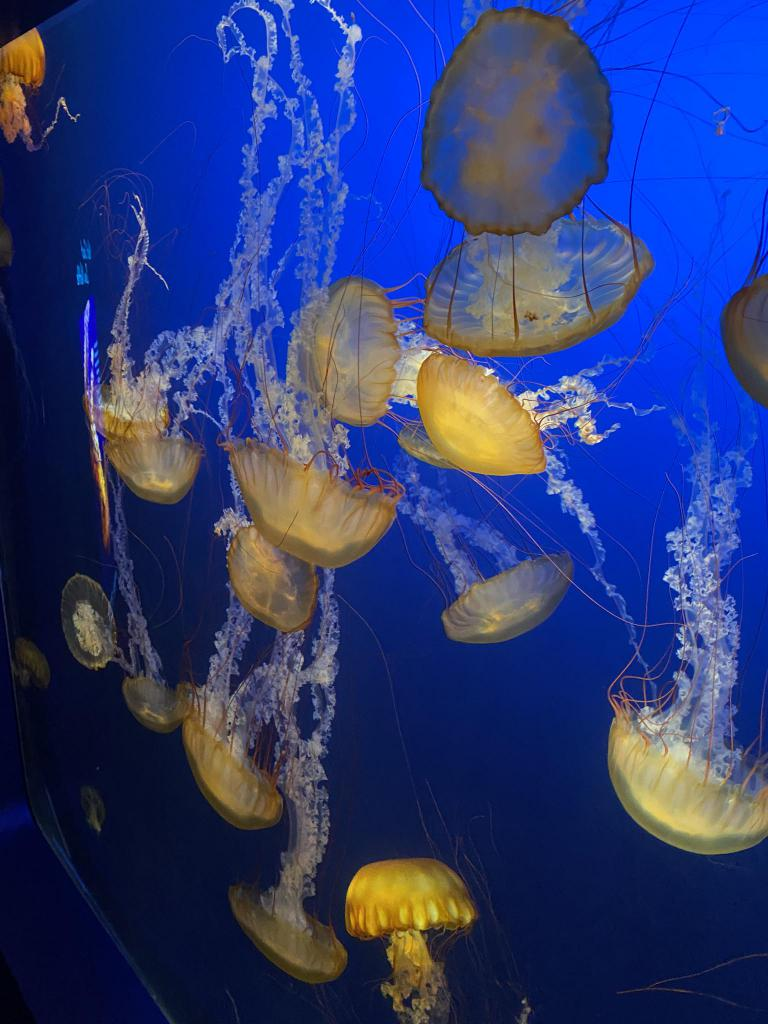jellyfish: (420, 8, 610, 236), (421, 214, 651, 356), (608, 710, 766, 856), (228, 440, 398, 570), (417, 350, 547, 478), (298, 275, 390, 427), (440, 551, 572, 653), (181, 709, 281, 831), (226, 883, 348, 983), (347, 856, 475, 940), (228, 526, 320, 636), (107, 441, 203, 509), (720, 276, 766, 414), (58, 574, 122, 670), (79, 380, 167, 444), (124, 678, 192, 730), (0, 24, 49, 86), (12, 638, 52, 690), (78, 788, 106, 822), (0, 218, 13, 268)
